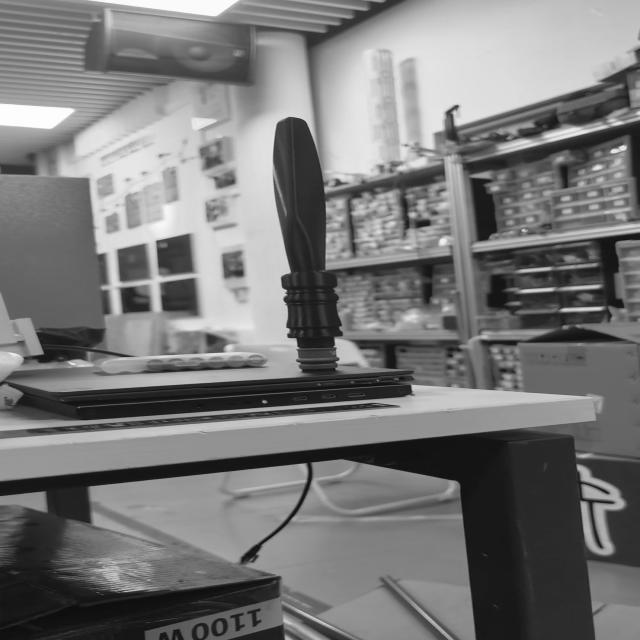base: (293, 346, 341, 372)
